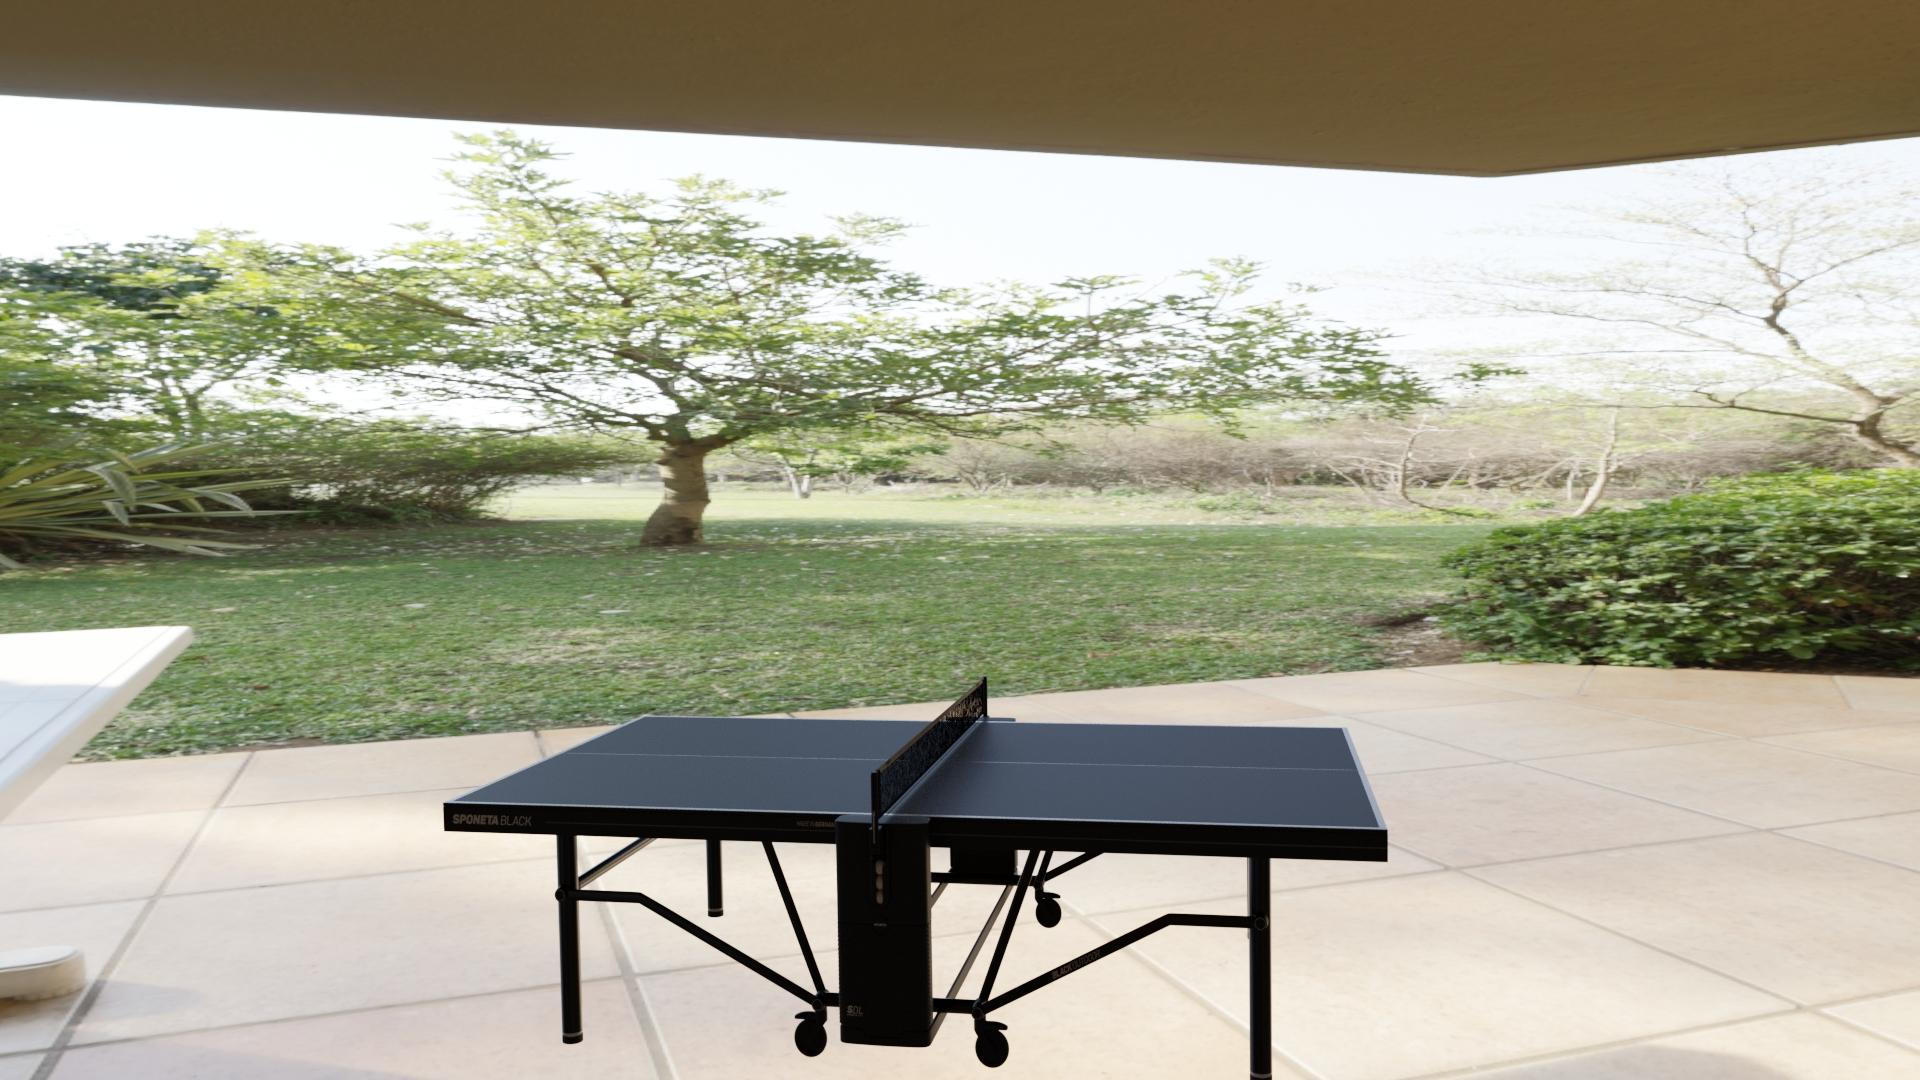table: (452, 716, 1379, 828)
